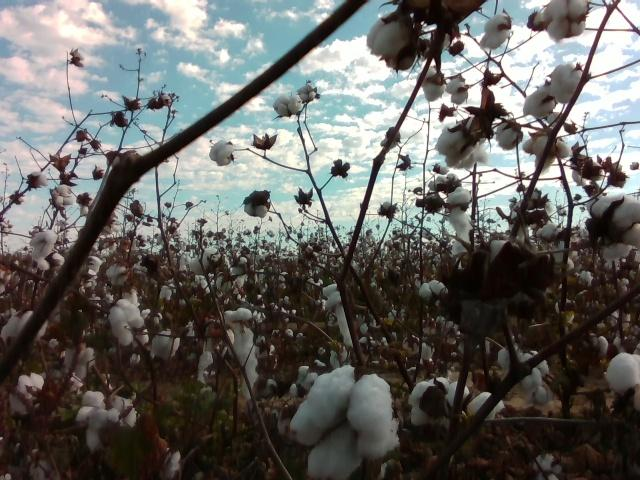cotton_ready: (291, 365, 401, 480), (76, 389, 137, 451), (590, 196, 640, 261), (411, 376, 470, 429), (226, 305, 259, 399), (434, 120, 491, 169), (367, 16, 418, 69), (496, 345, 548, 395), (321, 282, 354, 351), (109, 298, 150, 349), (521, 132, 572, 171), (0, 308, 50, 345), (446, 188, 472, 255), (602, 352, 640, 397), (547, 0, 588, 40), (550, 60, 585, 102), (11, 372, 45, 415), (522, 85, 557, 118), (479, 14, 511, 50), (471, 392, 506, 421)
